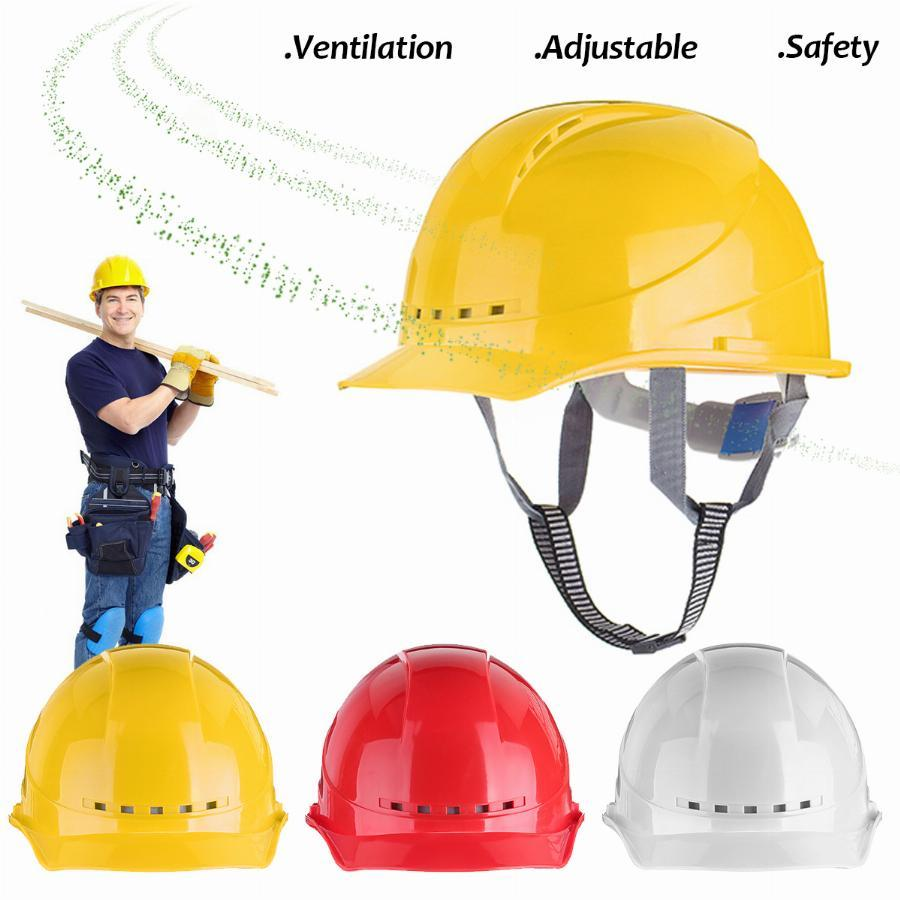helmet: (331, 95, 858, 403), (301, 641, 590, 875), (10, 644, 293, 877), (600, 641, 883, 874), (87, 253, 153, 305)
